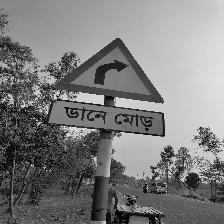Right-turn: (46, 38, 166, 137)
